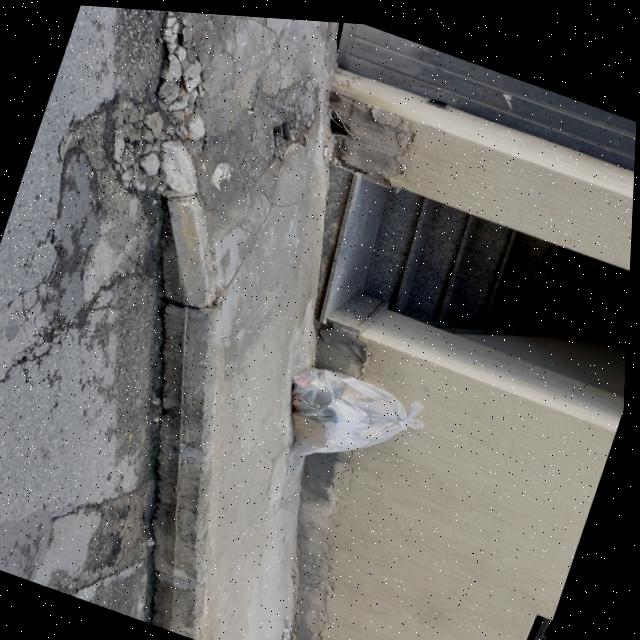Recycled Waste -Grey or Green Bag-: (271, 352, 436, 488)
